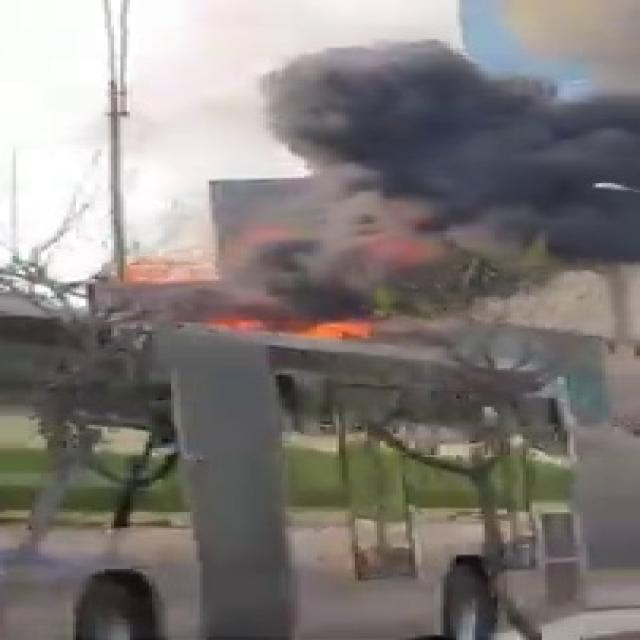Fire: (208, 316, 382, 346)
Smoke: (236, 26, 626, 302)
